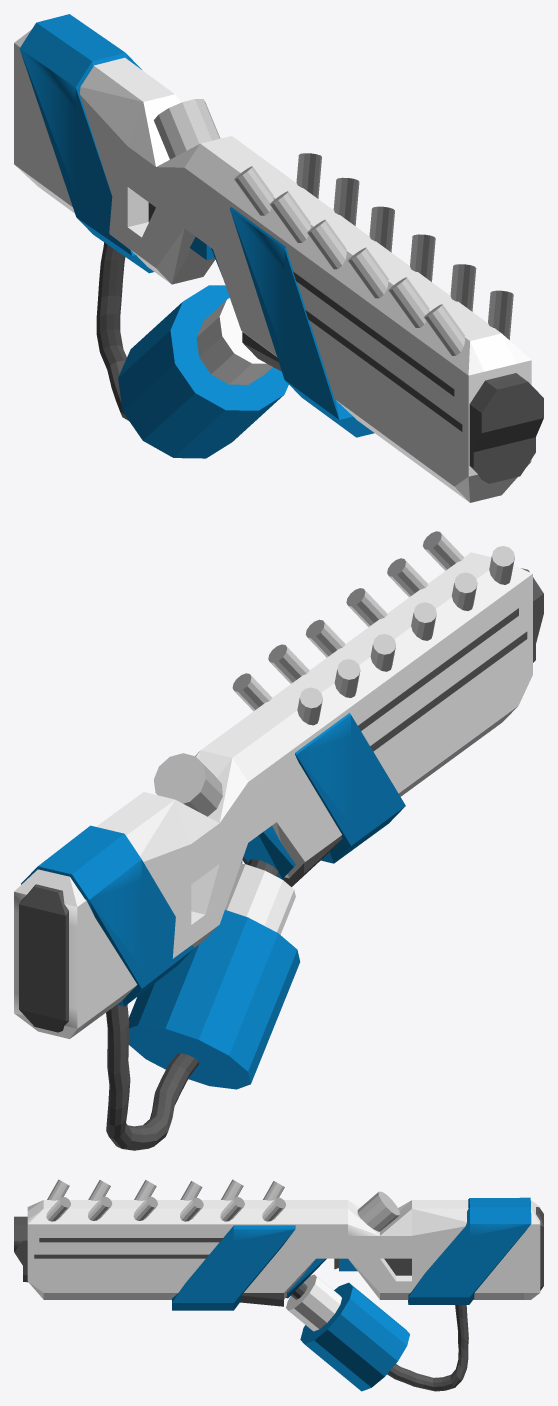
The model's file is rifle_blue.gltf.
3 renders of one model, top to bottom at view 1: azimuth 30°, elevation 25°; view 2: azimuth 150°, elevation 25°; view 3: azimuth 270°, elevation 25°, orthographic. The views are drawn at different scales.
Visible parts, largest first — view 1: group265768751, group201997025, group1638908236, group684696646, group1494860363, group2056391109, group1088588955, group1790223731, group616640639, group1093921766, group1110261251; view 2: group265768751, group201997025, group1638908236, group684696646, group1538806949, group1790223731, group1088588955, group2056391109, group616640639, group1372893271, group1093921766, group1110261251 (+1 smaller); view 3: group265768751, group201997025, group1638908236, group684696646, group1088588955, group1790223731, group2056391109, group1494860363, group616640639, group1606866373, group110904487, group1440918819 (+2 smaller).
Part boxes in pixels (x1,y1,x2,y2): group265768751: (14, 30, 531, 502); group201997025: (118, 285, 288, 458); group1638908236: (19, 14, 153, 273); group684696646: (230, 207, 374, 437); group1494860363: (242, 332, 543, 483); group2056391109: (234, 166, 464, 355); group1088588955: (296, 153, 513, 339); group1790223731: (96, 242, 128, 420); group616640639: (154, 99, 220, 159); group1093921766: (293, 271, 454, 396); group1110261251: (305, 310, 462, 431); group265768751: (14, 552, 532, 1038); group201997025: (129, 859, 300, 1089); group1638908236: (21, 825, 194, 1006); group684696646: (295, 713, 405, 863); group1538806949: (19, 884, 68, 1032); group1790223731: (106, 1004, 198, 1150); group1088588955: (232, 531, 463, 711); group2056391109: (297, 546, 514, 725); group616640639: (154, 753, 222, 816); group1372893271: (243, 826, 295, 878); group1093921766: (358, 608, 518, 730); group1110261251: (370, 631, 527, 751); group265768751: (27, 1200, 540, 1299); group201997025: (286, 1274, 409, 1391); group1638908236: (408, 1197, 531, 1304); group684696646: (172, 1225, 295, 1310); group1088588955: (46, 1196, 285, 1221); group1790223731: (387, 1305, 468, 1391); group2056391109: (47, 1179, 284, 1200); group1494860363: (14, 1216, 283, 1306); group616640639: (357, 1191, 399, 1231); group1606866373: (39, 1238, 223, 1242); group110904487: (34, 1254, 209, 1258); group1440918819: (384, 1258, 411, 1275).
Size of the model in its own units: 0.1721 by 0.4927 by 1.16.
